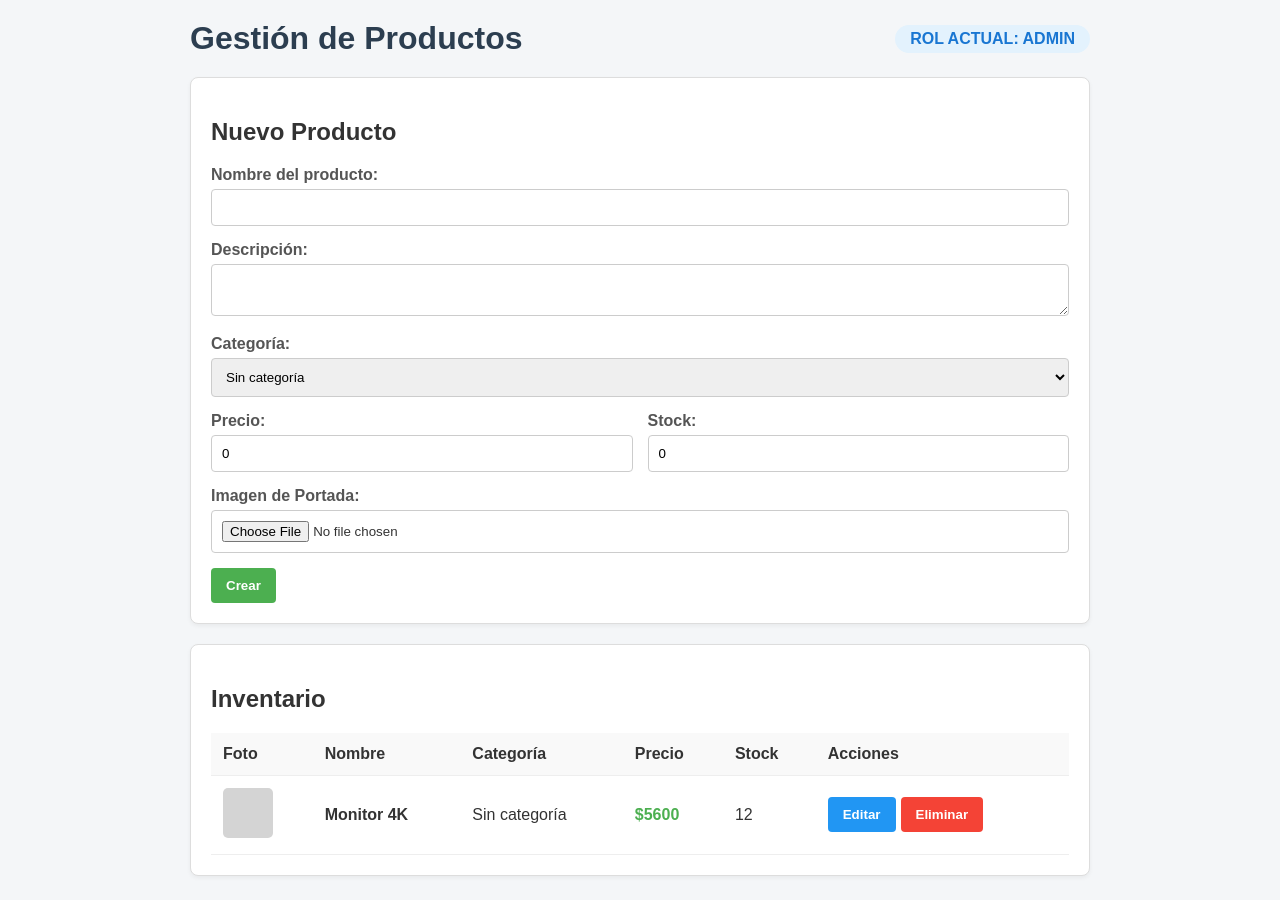
Productos.vue (Inventario Admin) › hace clic en Editar y cambia el formulario
Click the button with class "btn-edit". click: x=862, y=815
box: [828,797,896,832]
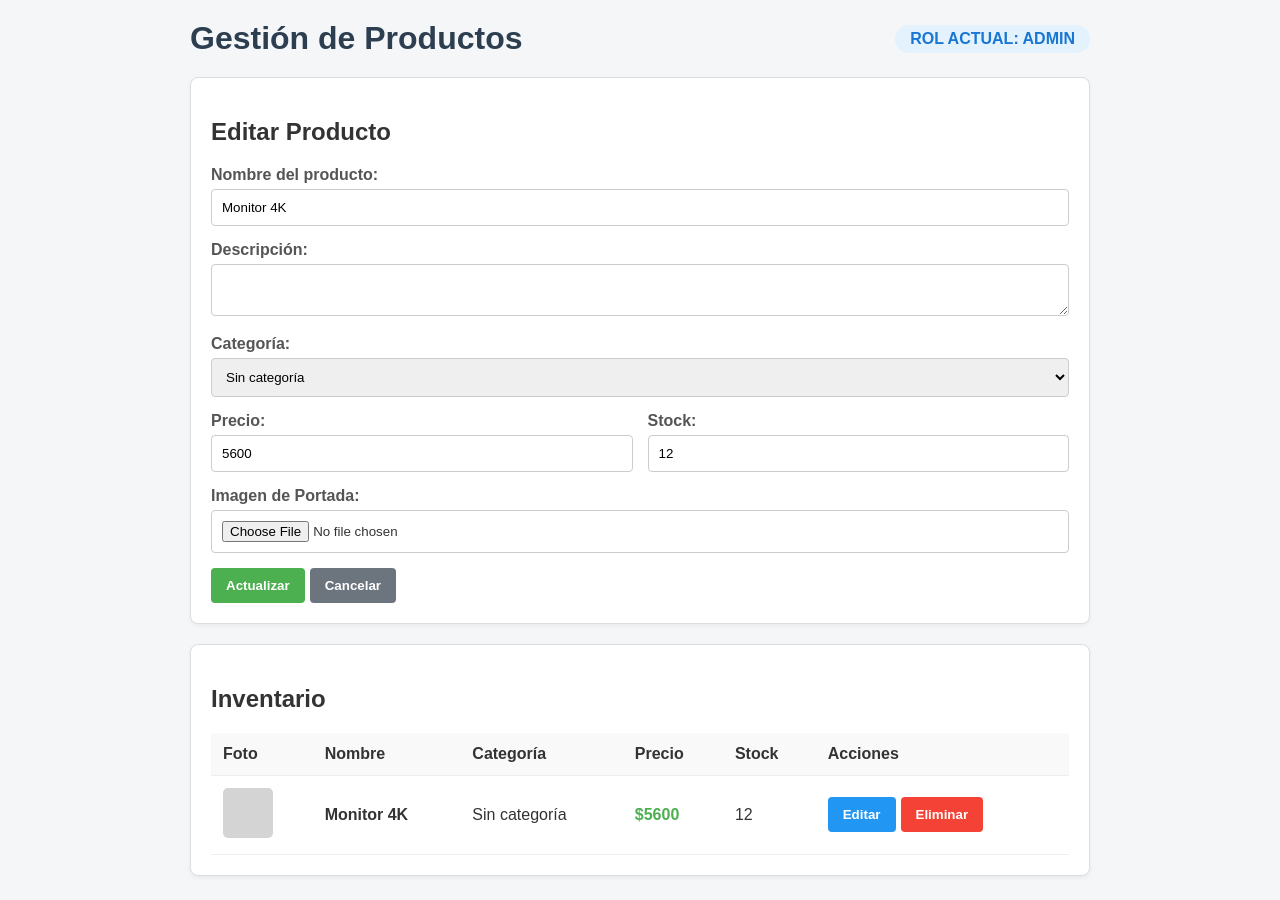
expect the text "Editar Producto" is shown: met, box [211,118,391,145]
